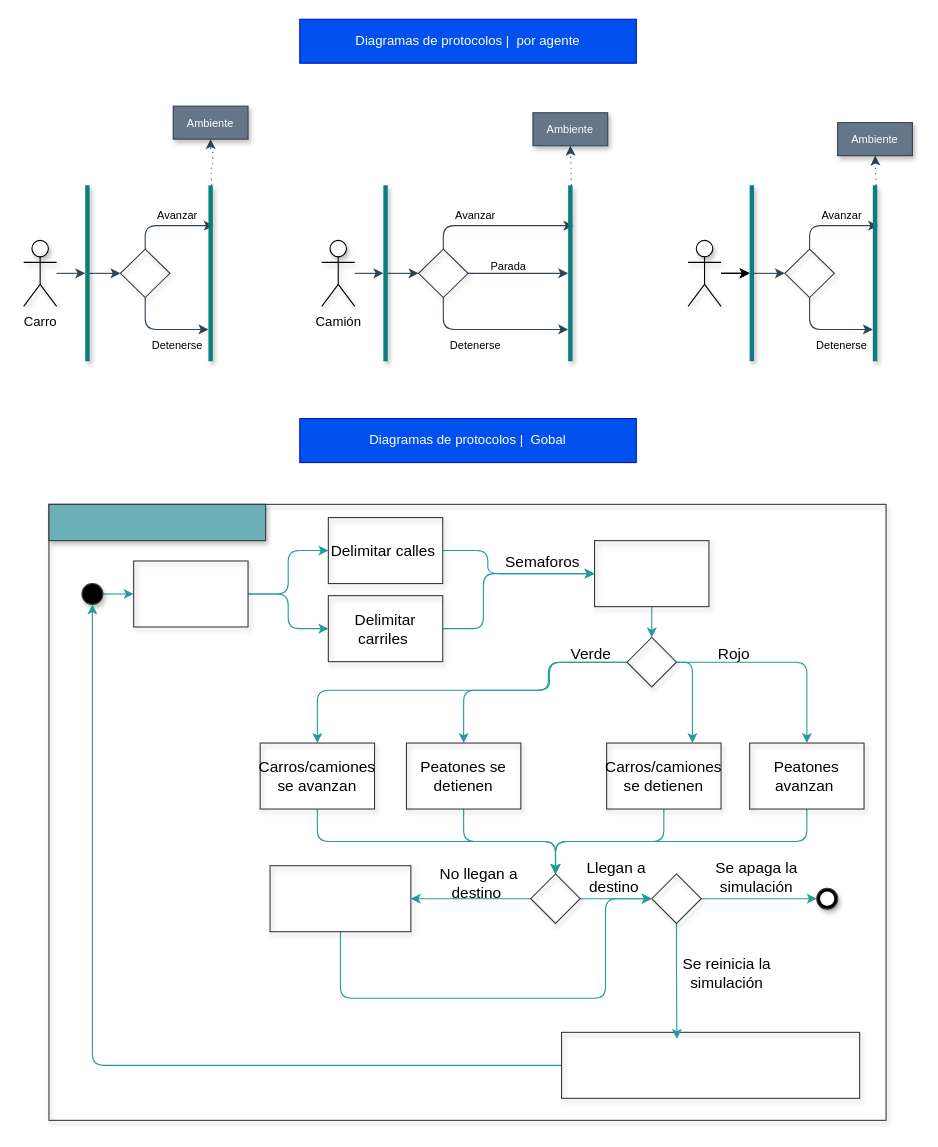
Some shapes in this 938 by 1147 pixel diagram are drawn without their labels. The shapes that lost their labels are listed below. From the top down, each one's centre as x and y in pixels, then its label:
At point (705, 274): "Peatones".
At point (157, 523): "Interaccion es en la ciudad".
At point (652, 574): "Funcionamiento de semaforos".
At point (191, 595): "Definir espacio de ciudad".
At point (341, 899): "Siguen avanzando hasta llegar".
At point (711, 1066): "Reaparecen en el punto de inicio los agentes que interactuan con el ambiente".
